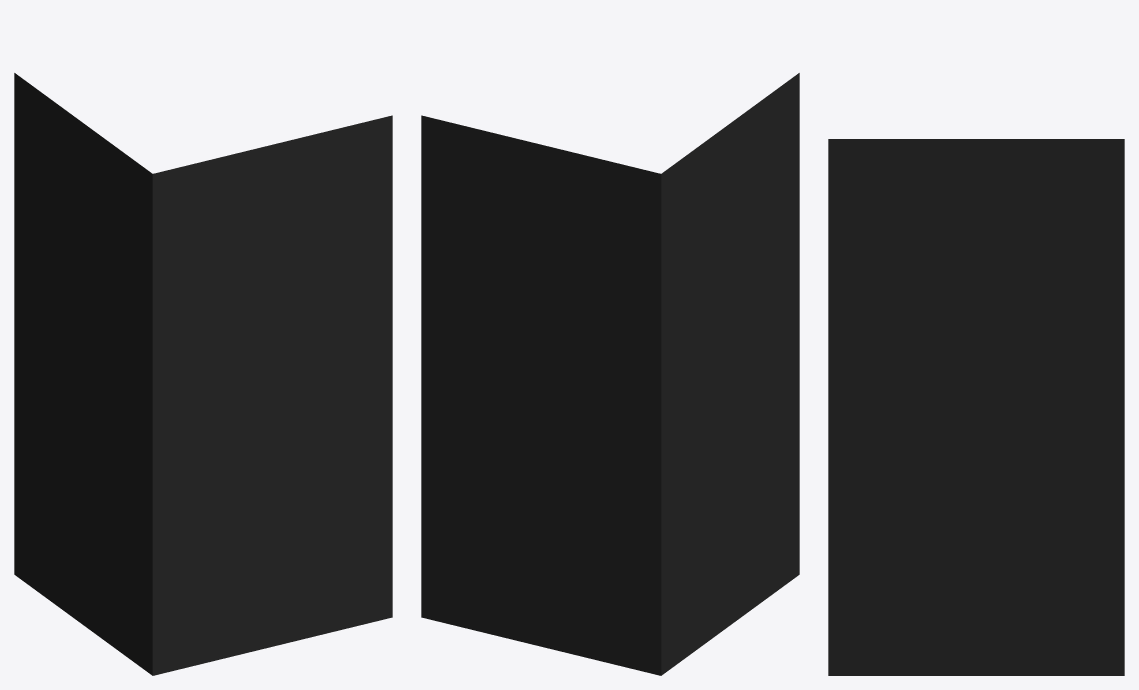
File: obelisk.glb
The picture shows the model from 3 angles, left to right: view 1: azimuth 30°, elevation 25°; view 2: azimuth 150°, elevation 25°; view 3: azimuth 270°, elevation 25°; orthographic projection. The views are drawn at different scales.
Parts seen in each view (by area): view 1: statue; view 2: statue; view 3: statue.
Boxes of the visible parts, <box> form: statue: <box>14,73,392,675</box>; statue: <box>421,73,799,675</box>; statue: <box>828,139,1124,675</box>.
Size of the model in its own units: 2 by 4 by 2.
1 material, 1 textured.
